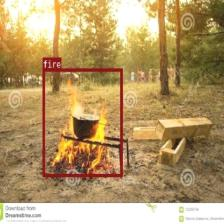fire: (42, 68, 122, 176)
